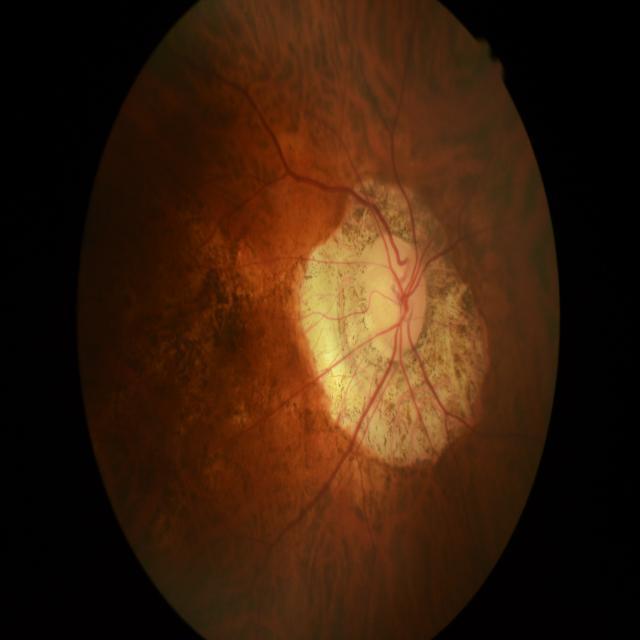cup: (376, 261, 418, 343)
disk: (358, 234, 430, 363)
